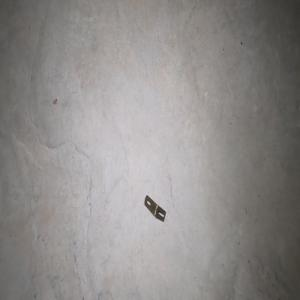MetalPart: (143, 194, 166, 222)
